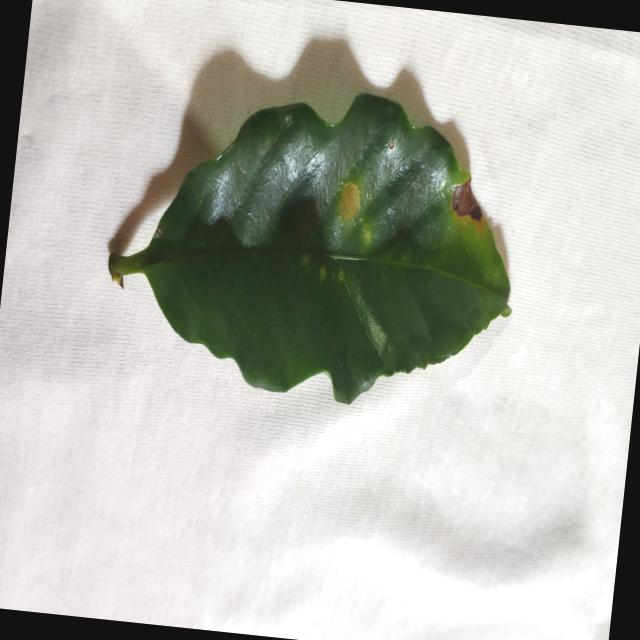KaratDaunKopi: (338, 183, 359, 221), (320, 267, 325, 282)
